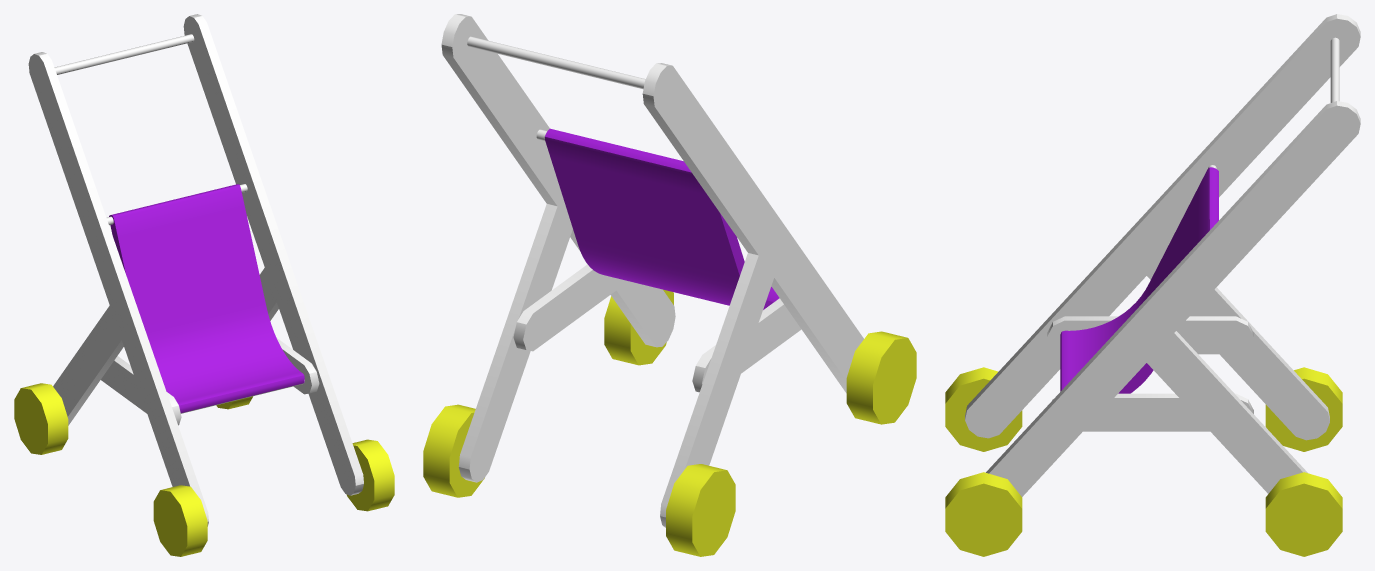
File: stroller.fbx
3 renders of one model, left to right at view 1: azimuth 30°, elevation 25°; view 2: azimuth 150°, elevation 25°; view 3: azimuth 270°, elevation 25°, orthographic. The views are drawn at different scales.
Parts seen in each view (by area): view 1: Box019, Plane007, Cylinder013; view 2: Box019, Plane007, Cylinder013; view 3: Box019, Cylinder013, Plane007.
Part boxes in pixels (left/top/right/bottom): Box019: left=28, top=14, right=363, bottom=526; Plane007: left=109, top=184, right=304, bottom=412; Cylinder013: left=14, top=383, right=394, bottom=556; Box019: left=441, top=14, right=863, bottom=527; Plane007: left=544, top=128, right=779, bottom=309; Cylinder013: left=423, top=289, right=916, bottom=556; Box019: left=965, top=14, right=1360, bottom=496; Cylinder013: left=945, top=367, right=1342, bottom=556; Plane007: left=1060, top=167, right=1218, bottom=393.
Bounding box in the file's own units: 32.73 × 57.63 × 49.43.
